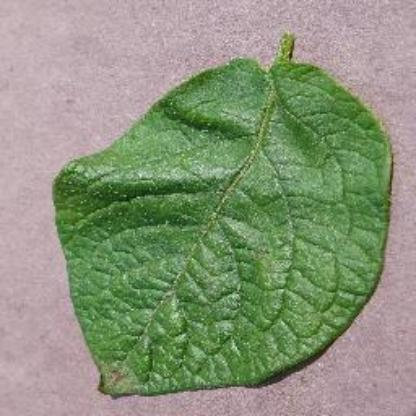Healthy-plant: (50, 28, 396, 400)
